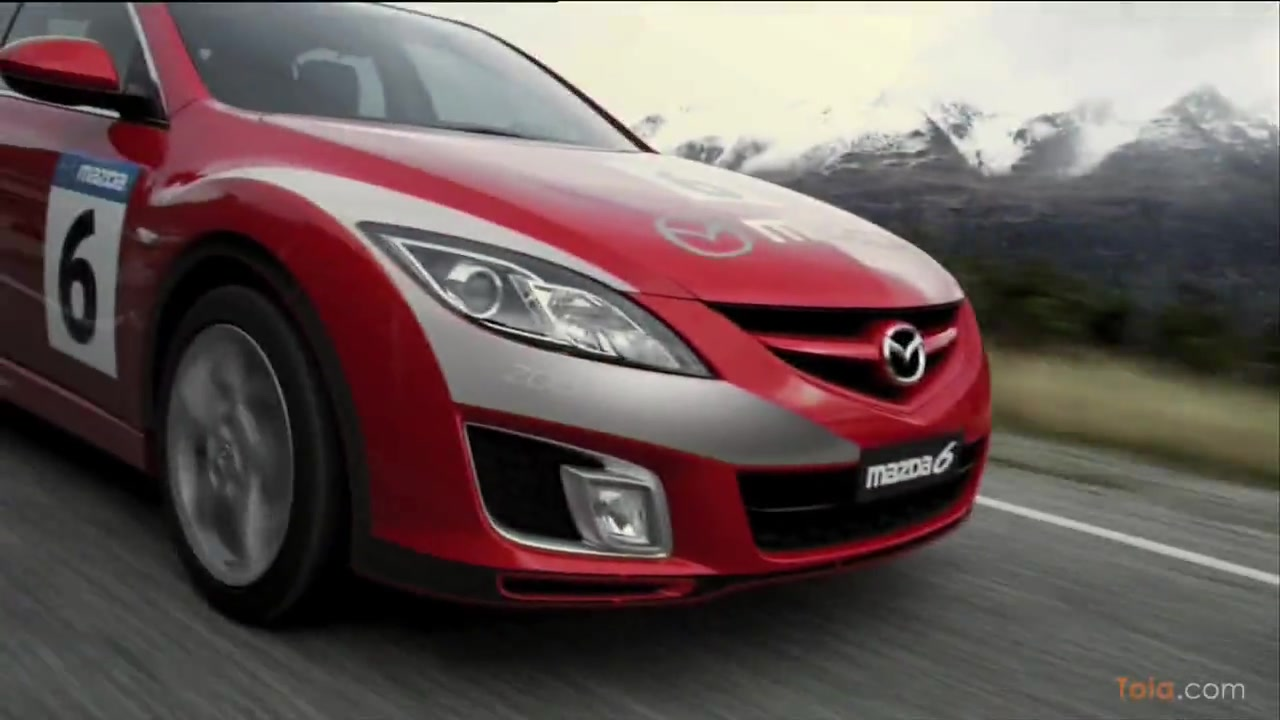car: (4, 1, 991, 646)
